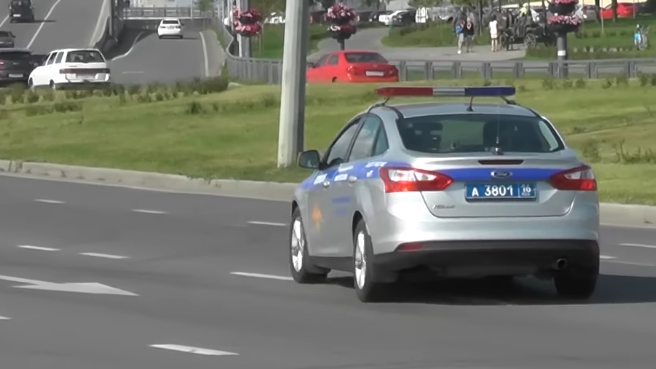non emergency car: (28, 47, 109, 95), (305, 47, 397, 84), (0, 47, 34, 88), (7, 0, 34, 23), (157, 17, 184, 38)
police car: (288, 83, 599, 300)
